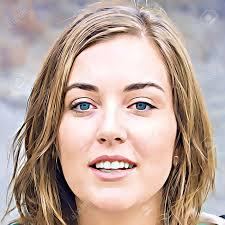person: (46, 4, 189, 215)
